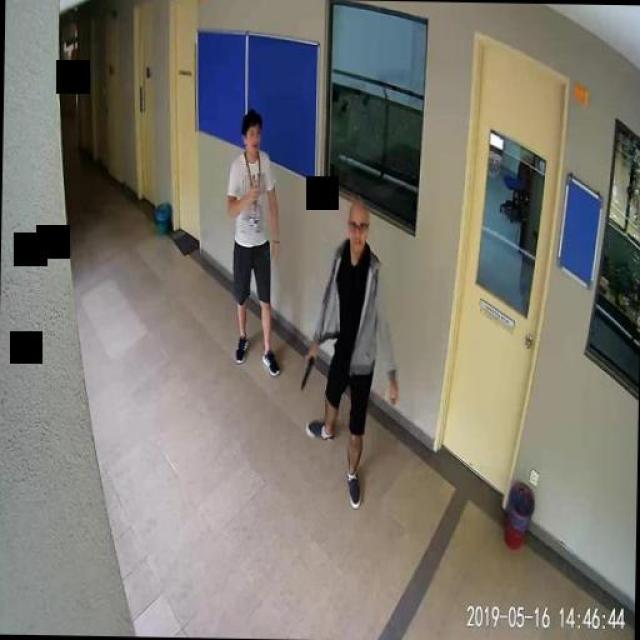gun: (299, 351, 315, 390)
